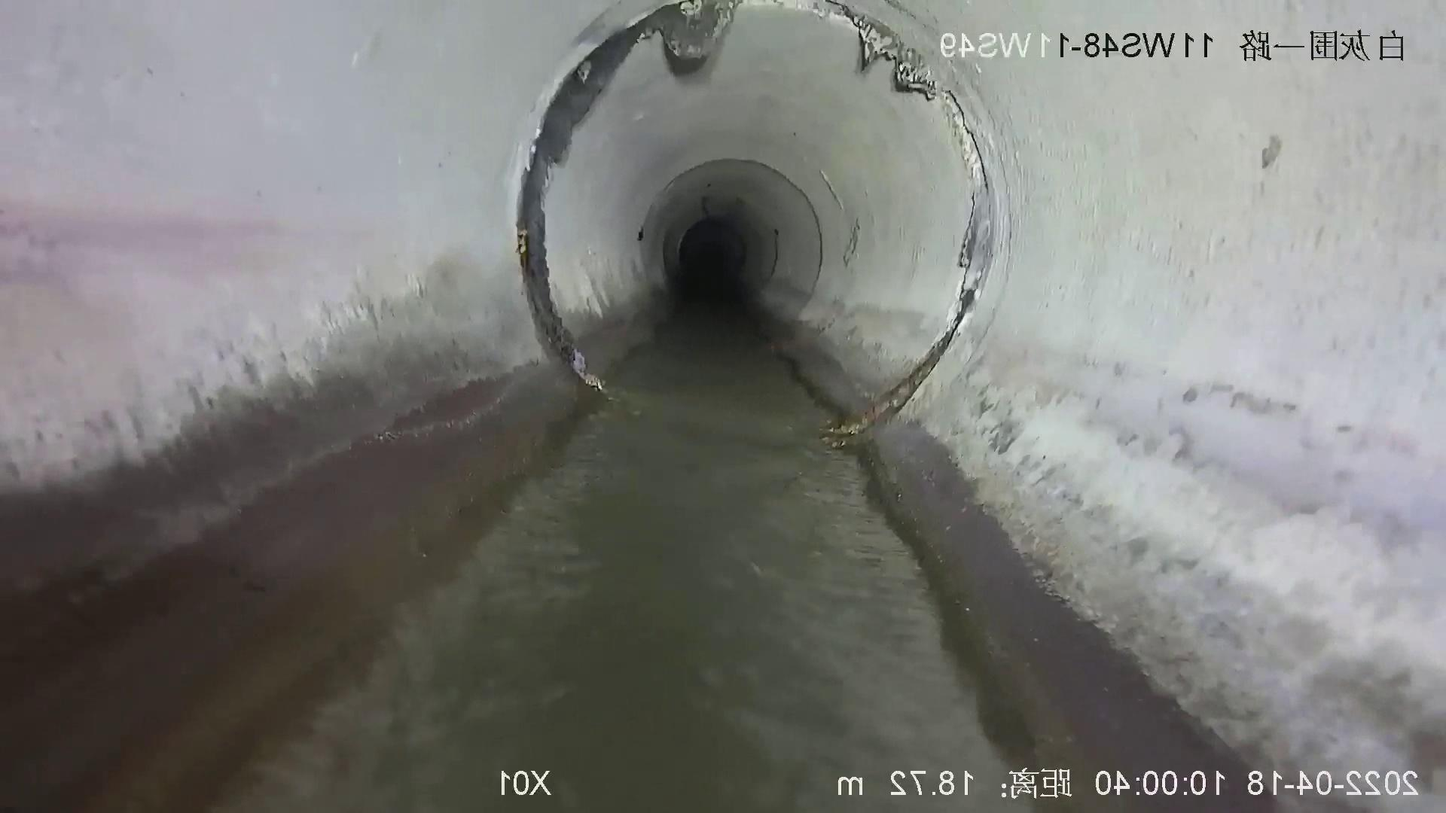JKCL: (497, 0, 954, 405)
